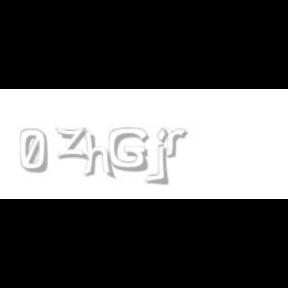0: (20, 128, 50, 174)
G: (108, 128, 148, 172)
h: (82, 128, 118, 180)
j: (154, 128, 182, 186)
r: (164, 128, 190, 158)
z: (55, 128, 91, 160)
